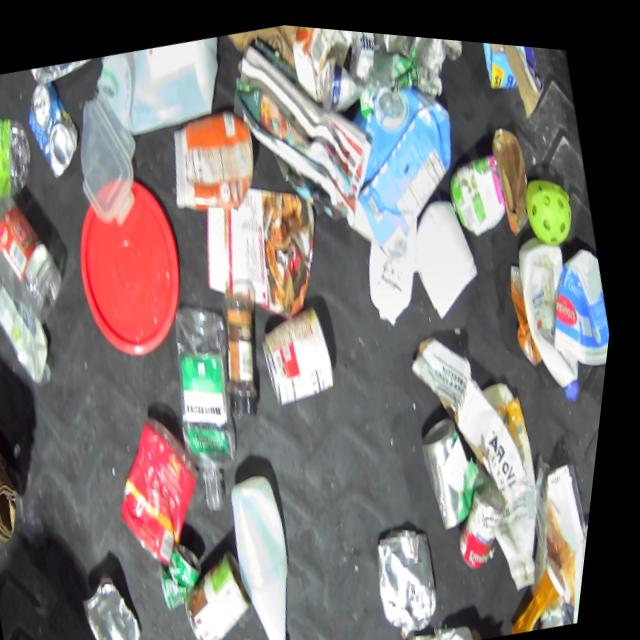can: (372, 509, 465, 632), (254, 294, 354, 405), (414, 397, 500, 525), (181, 535, 280, 640), (14, 70, 96, 184), (300, 21, 394, 113), (453, 462, 533, 564), (439, 138, 519, 232), (83, 562, 170, 640), (160, 531, 226, 610), (579, 501, 600, 579), (0, 233, 4, 338)
milk_jug: (219, 459, 335, 640), (86, 22, 240, 146), (504, 220, 608, 400)
non_white_jug: (316, 63, 485, 255)
plastic_bottle: (153, 290, 275, 513), (0, 110, 46, 212)
